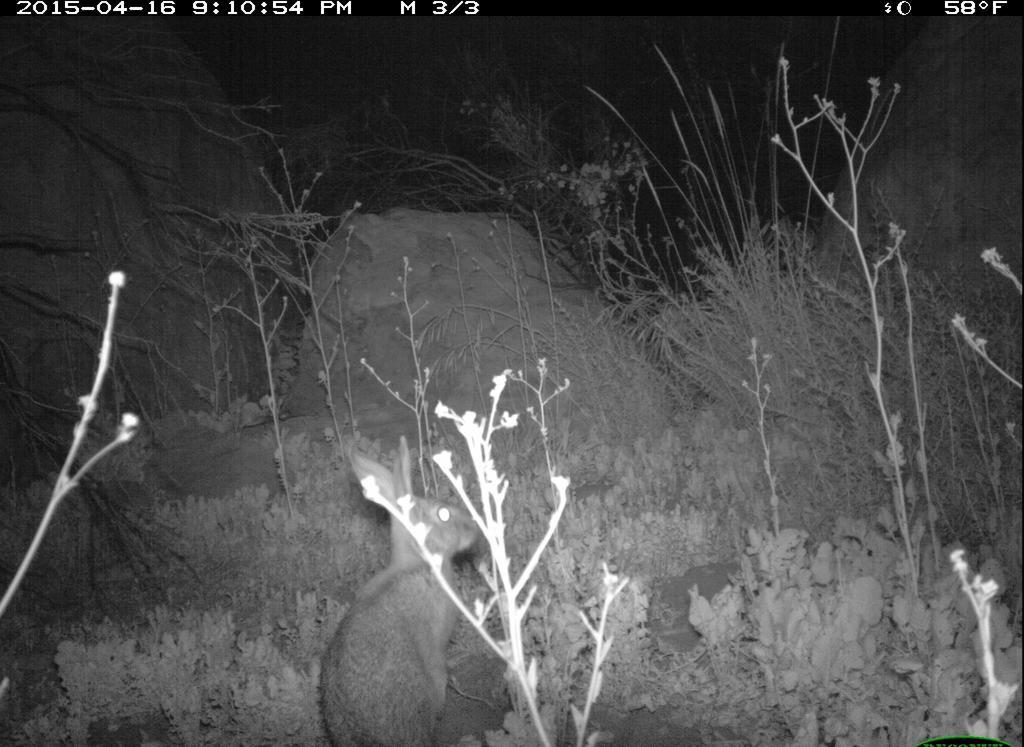rabbit: (286, 411, 498, 745)
